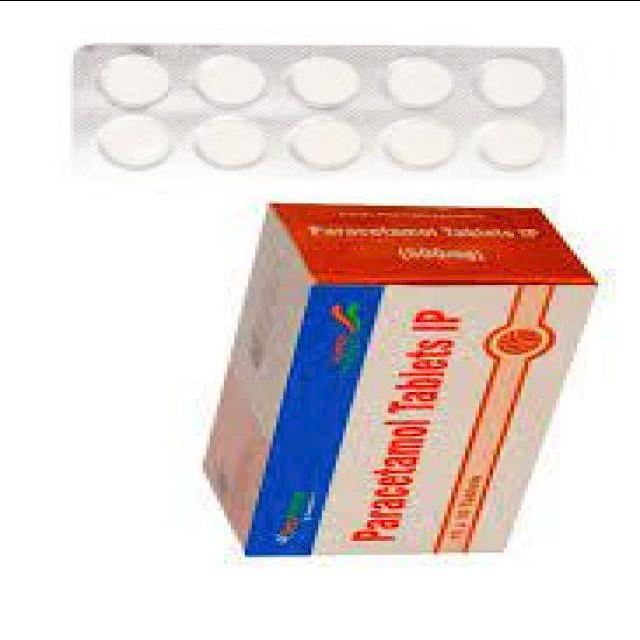authentic: (176, 196, 622, 572), (52, 30, 576, 190)
